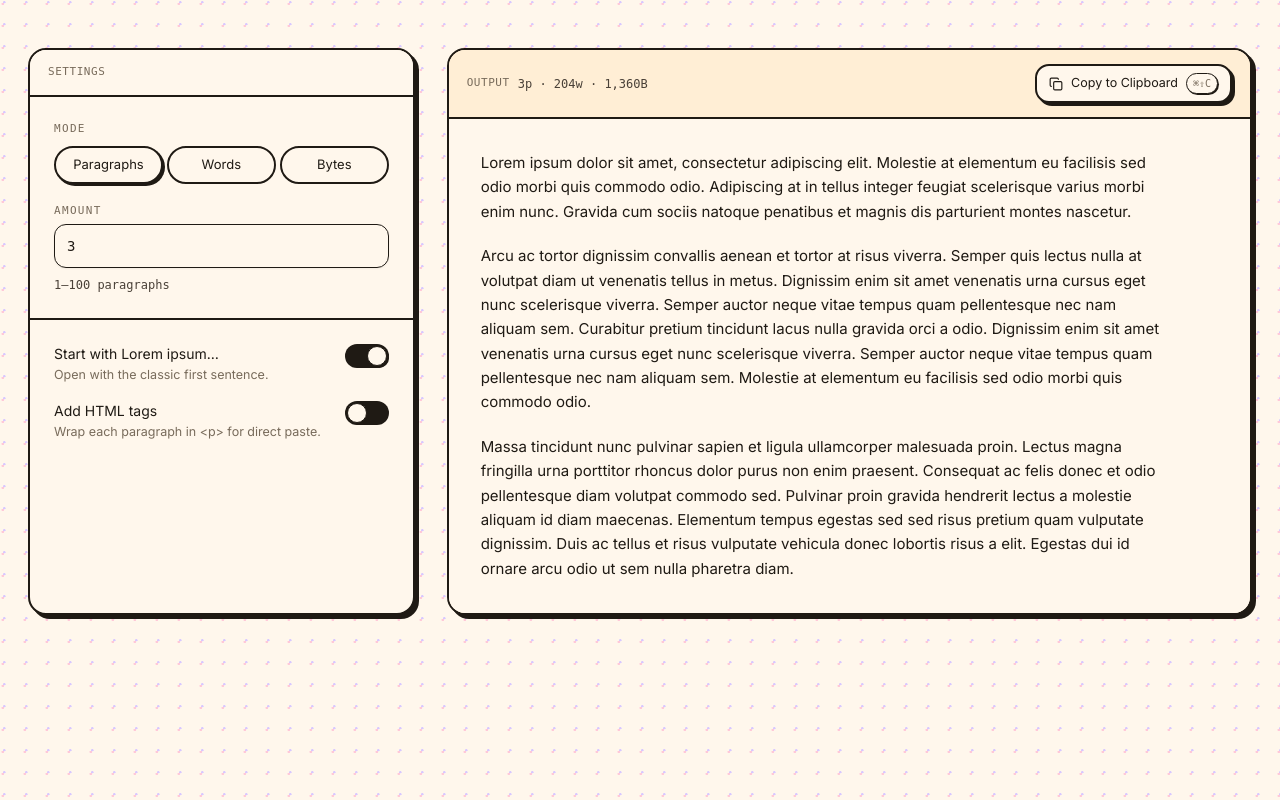
it: LoremIpsumRoute › toggling 'Start with Lorem ipsum' affects output
Expected: the element with test id "output-area" shows "Lorem ipsum", [481,153,1146,221]
Toggle off the "Start with Lorem ipsum" switch
Click the switch named "Start with" next to "Start with Lorem ipsum…".
click(367, 356)  # box [345,344,389,368]
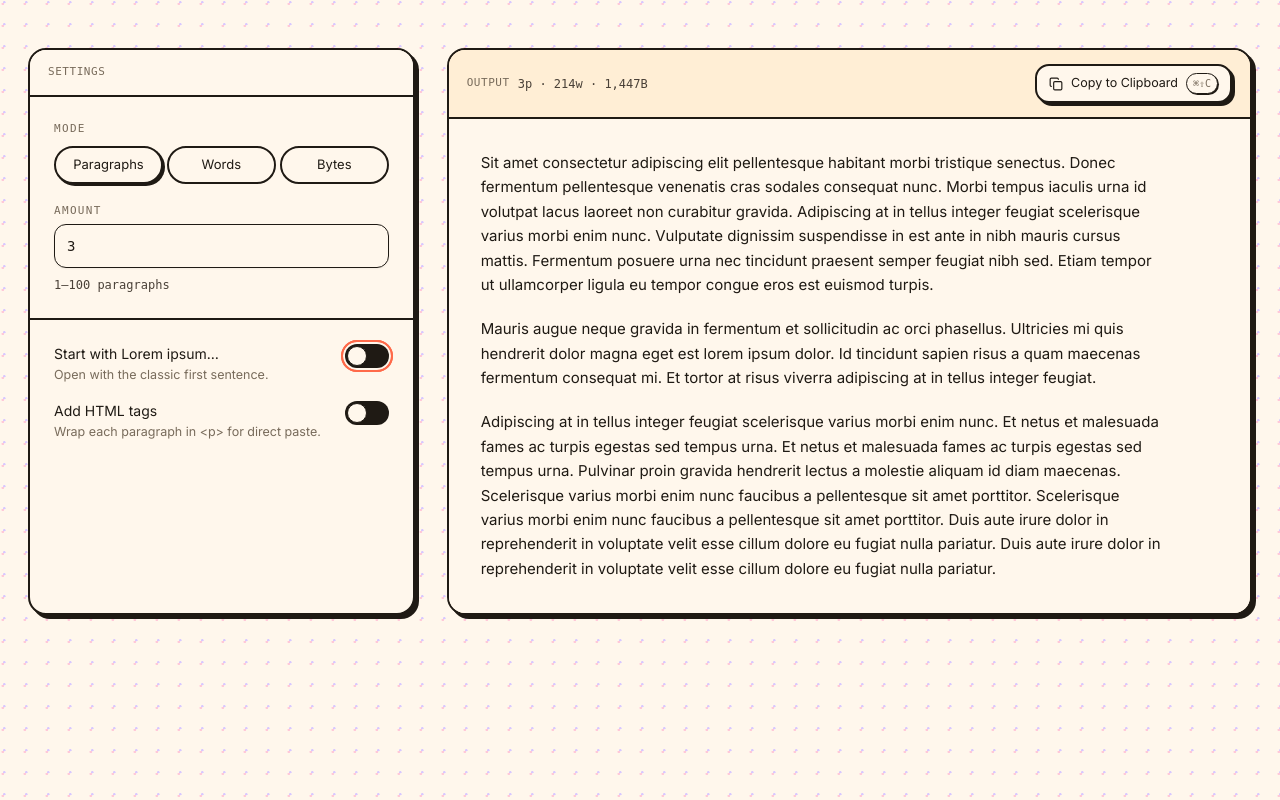
Now the text with test id "output-area" no longer shows "Lorem ipsum"
